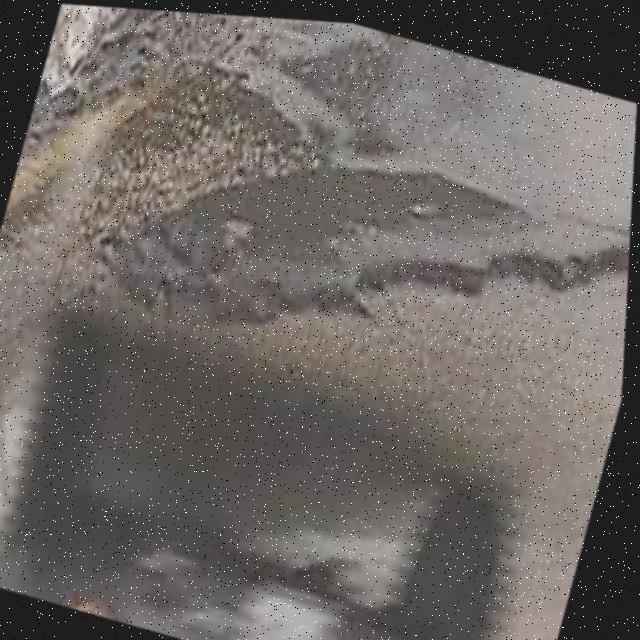pothole: (103, 52, 638, 450)
